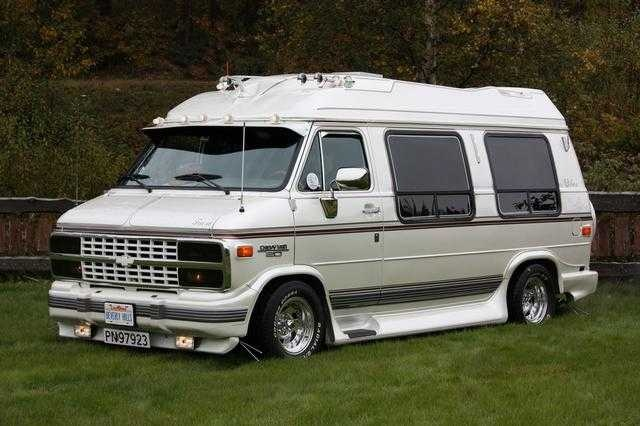van: (48, 72, 599, 360)
